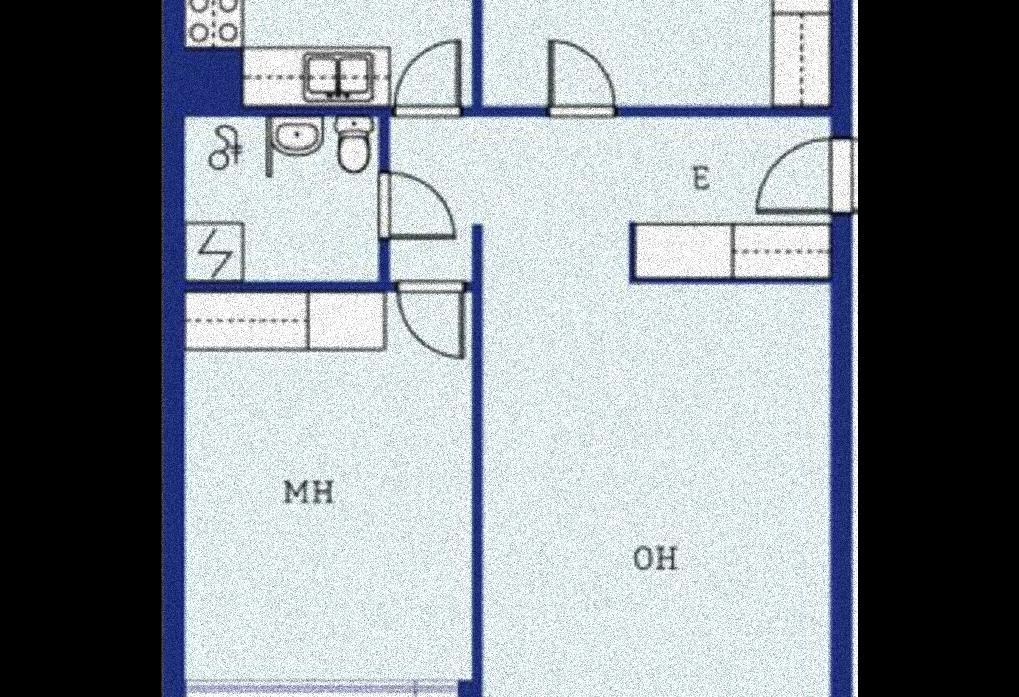door: (756, 137, 858, 217), (547, 25, 623, 121), (394, 276, 471, 365), (390, 31, 466, 121), (373, 170, 466, 238)
window: (182, 681, 454, 697)
zone: (388, 117, 827, 697), (184, 292, 469, 683), (480, 0, 826, 107), (182, 120, 376, 278), (239, 0, 471, 105)
